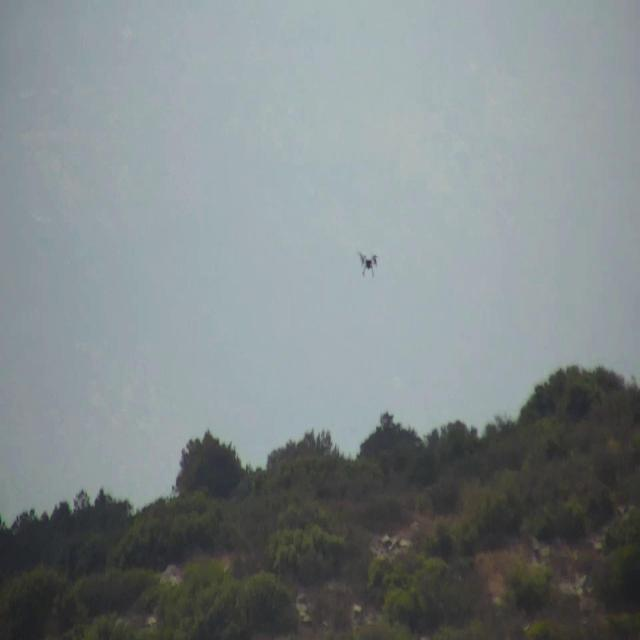drone: (354, 244, 380, 281)
